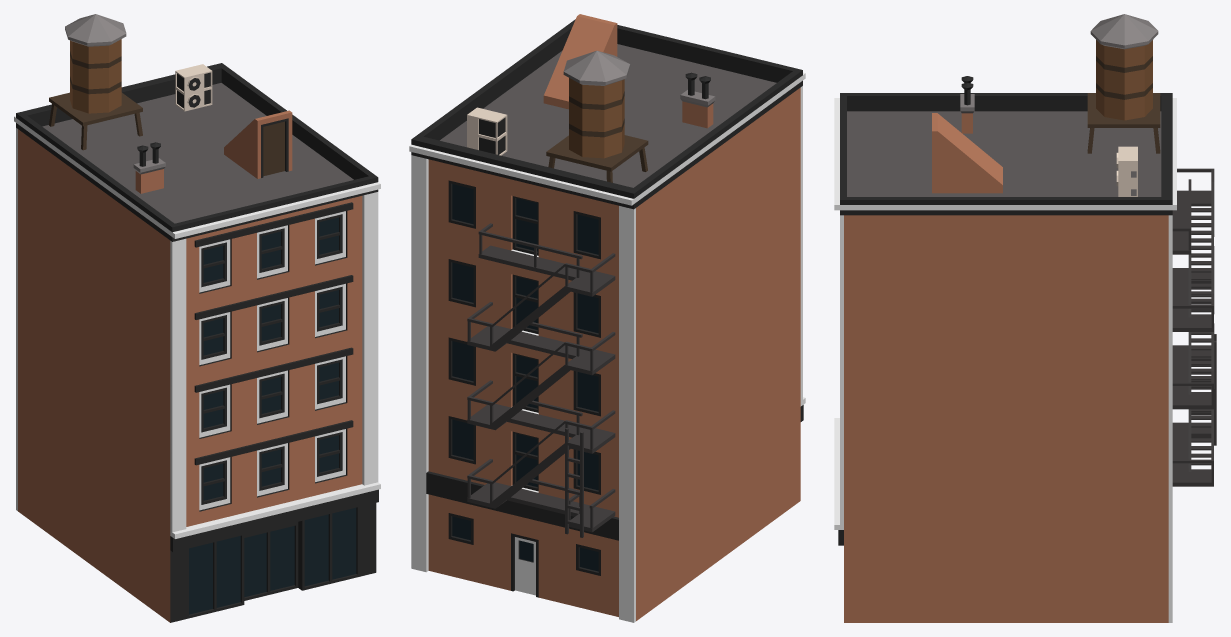
The model's file is building-block-4floor-short.glb.
The picture shows the model from 3 angles, left to right: view 1: azimuth 30°, elevation 25°; view 2: azimuth 150°, elevation 25°; view 3: azimuth 270°, elevation 25°; orthographic projection. The views are drawn at different scales.
Parts seen in each view (by area): view 1: building-block-4floor-short; view 2: building-block-4floor-short; view 3: building-block-4floor-short.
Part boxes in pixels (x1,y1,x2,y2): building-block-4floor-short: (14,14,380,622); building-block-4floor-short: (409,14,805,622); building-block-4floor-short: (834,14,1216,622).
Size of the model in its own units: 8.9 by 20.61 by 13.44.
Materials: 1 (1 with a texture image).
